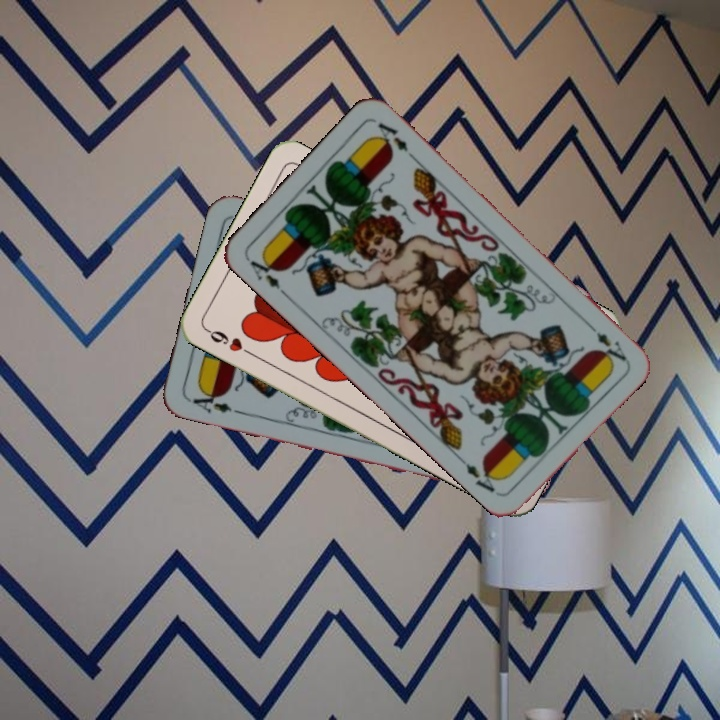EA: (244, 249, 291, 300), (582, 318, 630, 364), (185, 386, 243, 417)
H9: (202, 324, 257, 359)
